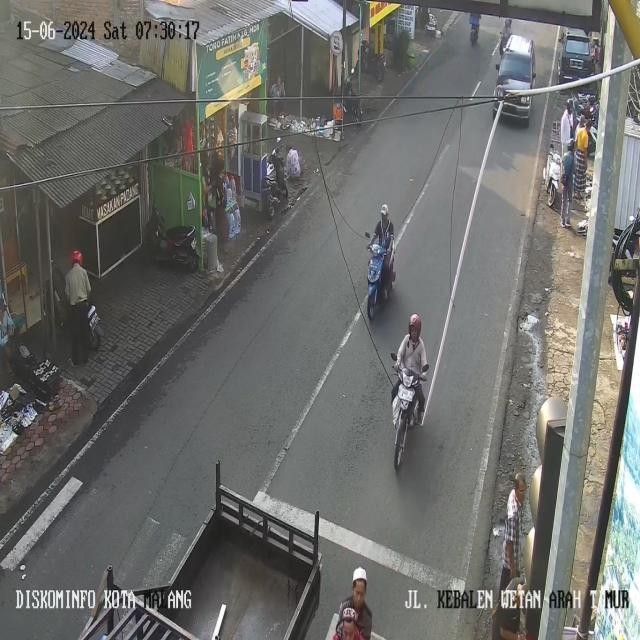Helmet: (408, 314, 421, 337), (340, 607, 357, 621), (352, 567, 366, 583), (71, 249, 82, 265), (380, 204, 389, 217), (568, 139, 575, 151), (588, 95, 595, 104), (505, 18, 511, 25)
Number Plate: (398, 385, 414, 400)
Rearview Mirror: (422, 364, 430, 373), (390, 353, 396, 361), (364, 232, 370, 238), (495, 63, 499, 70)
